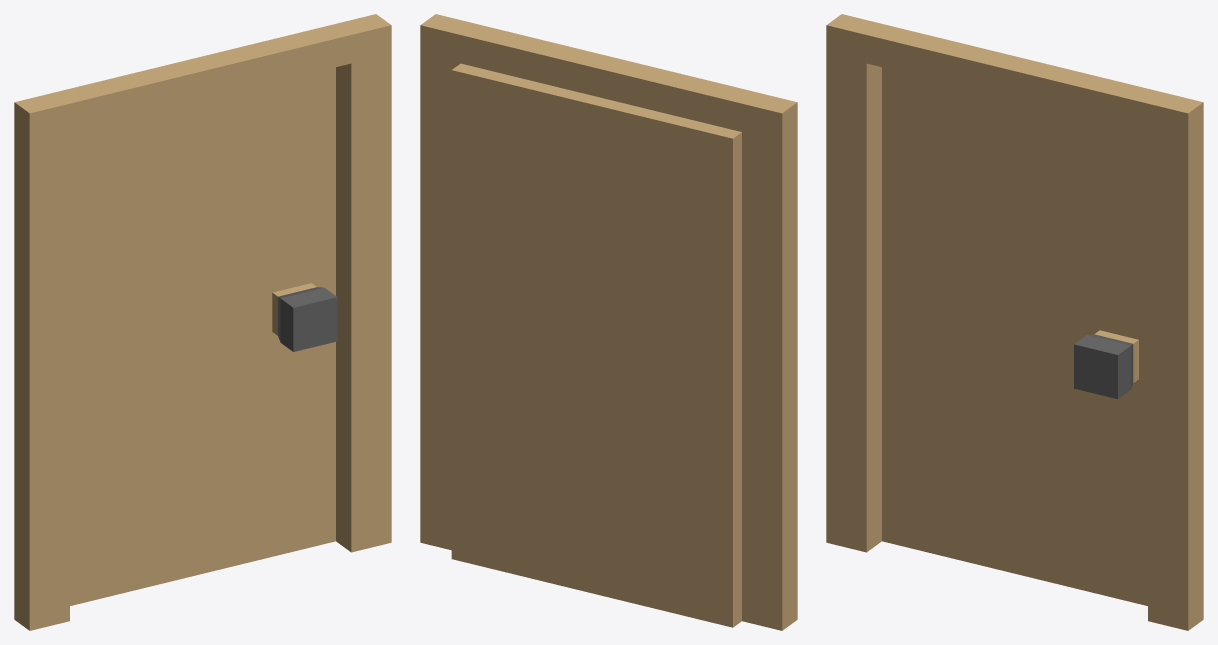
The model's file is Door.fbx.
3 views of the same model, side by side, from view 1: azimuth 30°, elevation 25°; view 2: azimuth 150°, elevation 25°; view 3: azimuth 330°, elevation 25° (orthographic).
Visible parts, largest first — view 1: Cube.001; view 2: Cube.001; view 3: Cube.001.
Boxes of the visible parts, <box> form: Cube.001: <box>14,14,391,630</box>; Cube.001: <box>420,14,797,630</box>; Cube.001: <box>826,14,1203,630</box>.
Size of the model in its own units: 120 by 164 by 18.57.
